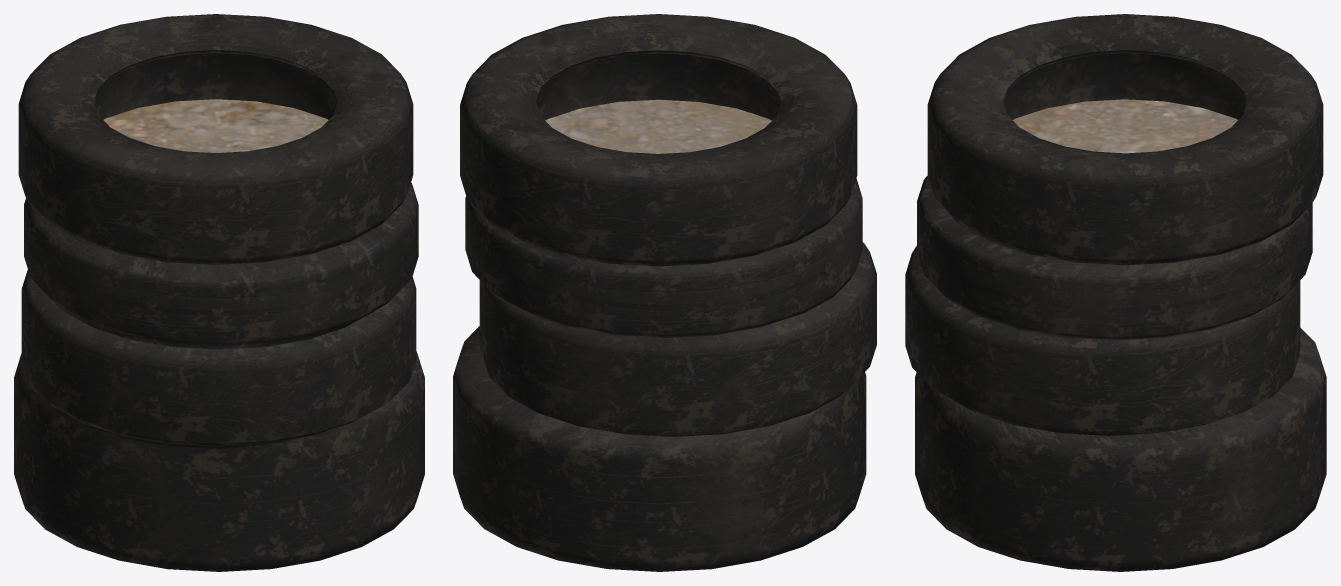
File: TrTiresStackA1B.fbx
3 views of the same model, side by side, from view 1: azimuth 30°, elevation 25°; view 2: azimuth 150°, elevation 25°; view 3: azimuth 270°, elevation 25° (orthographic).
Parts seen in each view (by area): view 1: TrTiresStackA1B_LOD0; view 2: TrTiresStackA1B_LOD0; view 3: TrTiresStackA1B_LOD0.
Part boxes in pixels (x1,y1,x2,y2): TrTiresStackA1B_LOD0: (14,14,424,571); TrTiresStackA1B_LOD0: (453,14,876,571); TrTiresStackA1B_LOD0: (905,14,1326,571).
Size of what is drawn, in the model's own units: 66.72 by 71.33 by 67.86.
1 material, 1 textured.
